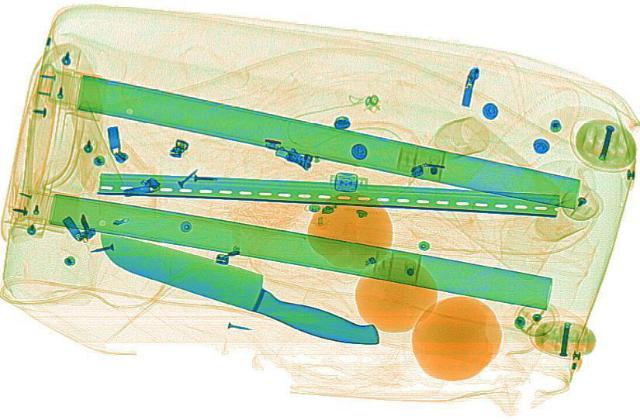Knife: (77, 222, 399, 351)
